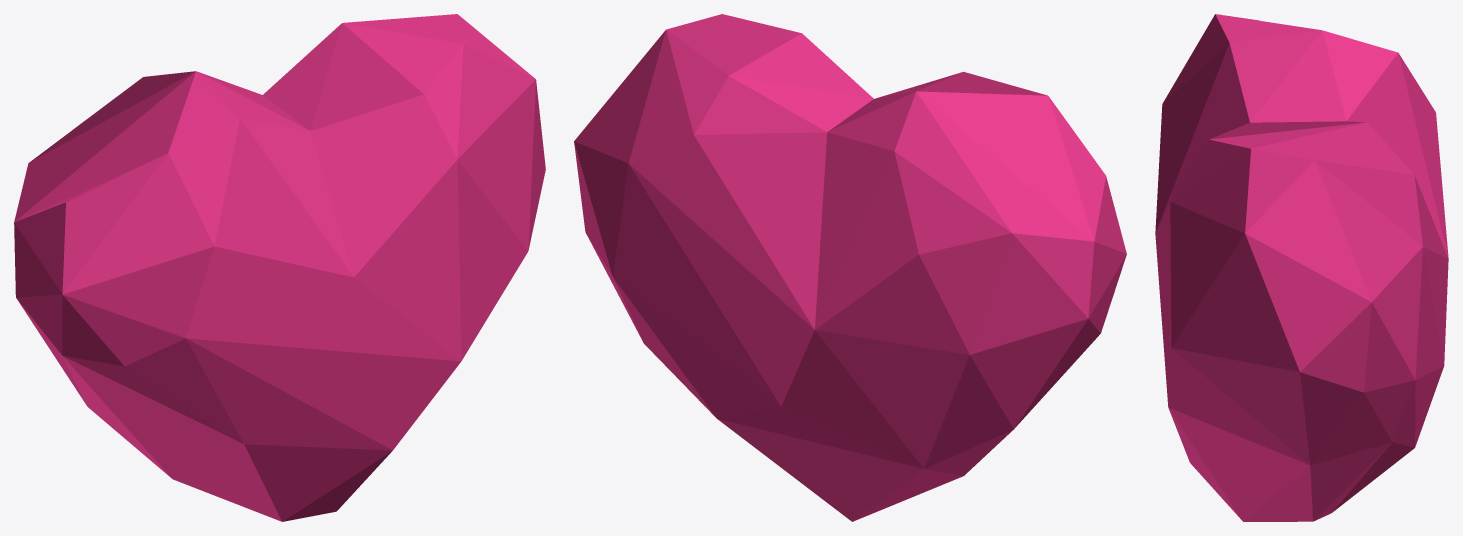
File: heart.fbx
The picture shows the model from 3 angles, left to right: view 1: azimuth 30°, elevation 25°; view 2: azimuth 150°, elevation 25°; view 3: azimuth 270°, elevation 25°; orthographic projection. The views are drawn at different scales.
Parts seen in each view (by area): view 1: hand_with_heart:_KeyRingWallMountHand1; view 2: hand_with_heart:_KeyRingWallMountHand1; view 3: hand_with_heart:_KeyRingWallMountHand1.
Boxes of the visible parts, x1,y1,x2,y2 form: hand_with_heart:_KeyRingWallMountHand1: (14,14,545,521); hand_with_heart:_KeyRingWallMountHand1: (574,14,1126,521); hand_with_heart:_KeyRingWallMountHand1: (1155,14,1448,521).
Size of the model in its own units: 7.91 by 6.51 by 3.82.
